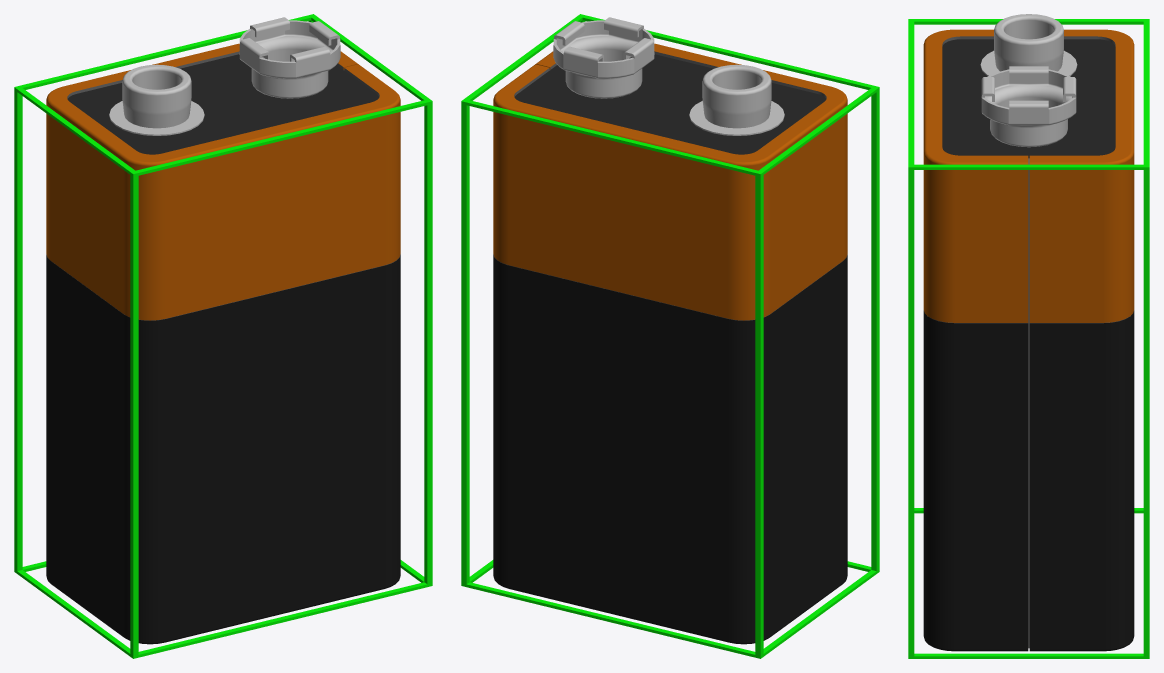
File: 9V-Battery-Rectangular-Prism.glb
3 renders of one model, left to right at view 1: azimuth 30°, elevation 25°; view 2: azimuth 150°, elevation 25°; view 3: azimuth 270°, elevation 25°, orthographic.
Parts seen in each view (by area): view 1: Part 5, Part 3, Part 6, Part 2, Part 4, Part; view 2: Part 5, Part 3, Part 6, Part 2, Part 4, Part; view 3: Part 5, Part 3, Part 6, Part 4, Part 2, Part.
Part boxes in pixels (x1=…): Part 5: x1=46, y1=254, x2=400, y2=644; Part 3: x1=46, y1=43, x2=400, y2=320; Part 6: x1=14, y1=14, x2=432, y2=658; Part 2: x1=109, y1=17, x2=340, y2=135; Part 4: x1=67, y1=54, x2=379, y2=154; Part: x1=47, y1=51, x2=399, y2=320; Part 5: x1=493, y1=254, x2=847, y2=644; Part 3: x1=493, y1=43, x2=847, y2=320; Part 6: x1=461, y1=14, x2=879, y2=658; Part 2: x1=553, y1=17, x2=784, y2=135; Part 4: x1=514, y1=54, x2=826, y2=154; Part: x1=494, y1=51, x2=846, y2=320; Part 5: x1=923, y1=310, x2=1134, y2=651; Part 3: x1=923, y1=29, x2=1134, y2=322; Part 6: x1=908, y1=19, x2=1149, y2=658; Part 4: x1=942, y1=39, x2=1115, y2=158; Part 2: x1=980, y1=14, x2=1077, y2=147; Part: x1=927, y1=36, x2=1130, y2=648.
Size of the model in its own units: 0.0286 by 0.0479 by 0.0197.
